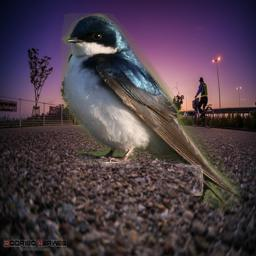Swallow: (61, 13, 240, 215)
